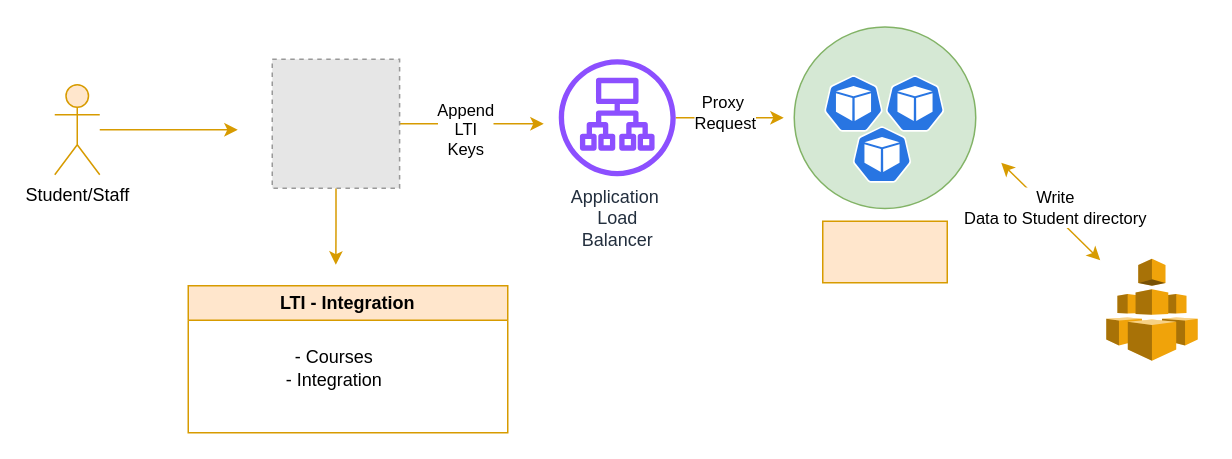
This 1232x459 diagram has some shape labels left out. Grey dashed boxes stand in for pictures. Each missing label, with the centre of its shape:
"Amazon EFS" goes at point (1151, 309).
"JupyterHub Application" goes at point (884, 251).
